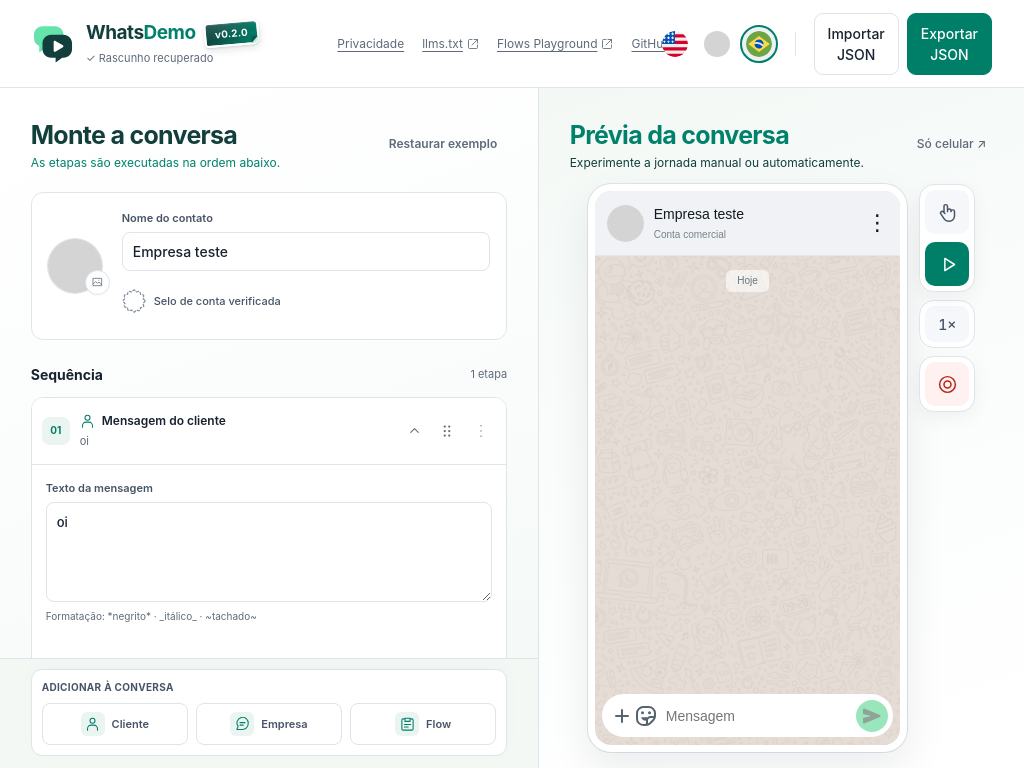
Scenario: formata mensagens digitadas pelo cliente
Click the button named "Iniciar manual" at (947, 212), box [925,190,969,234]
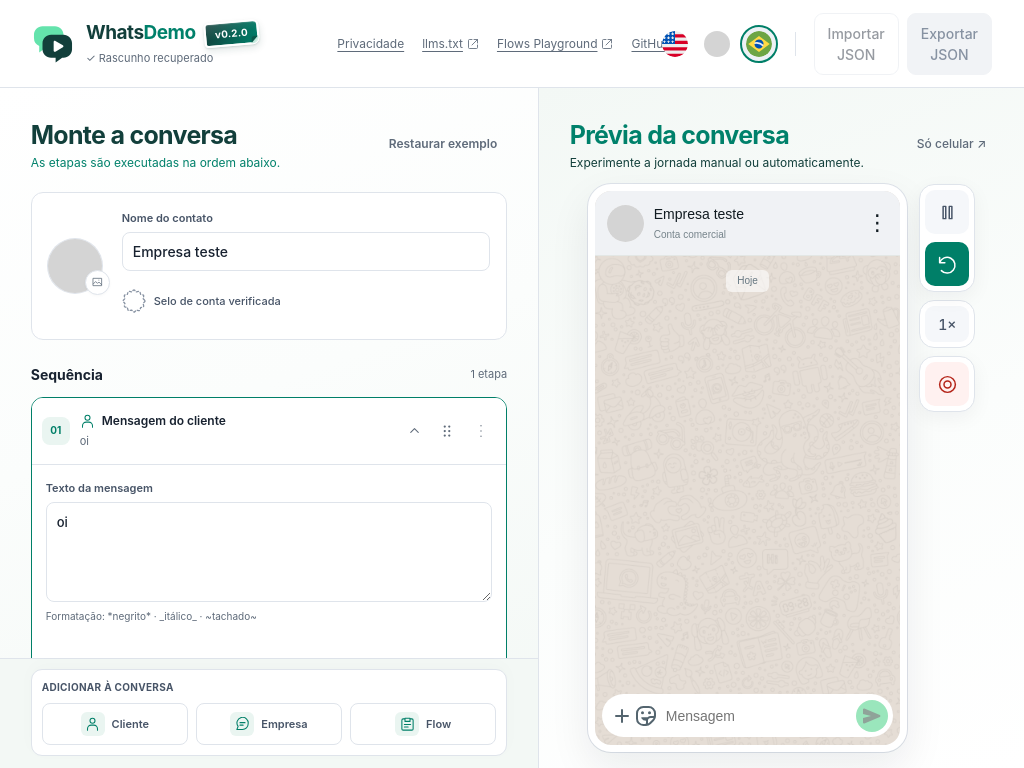
Type "Quero *agendar* uma _consulta_." into the field labelled "Mensagem" at (757, 716), box [666,702,848,728]
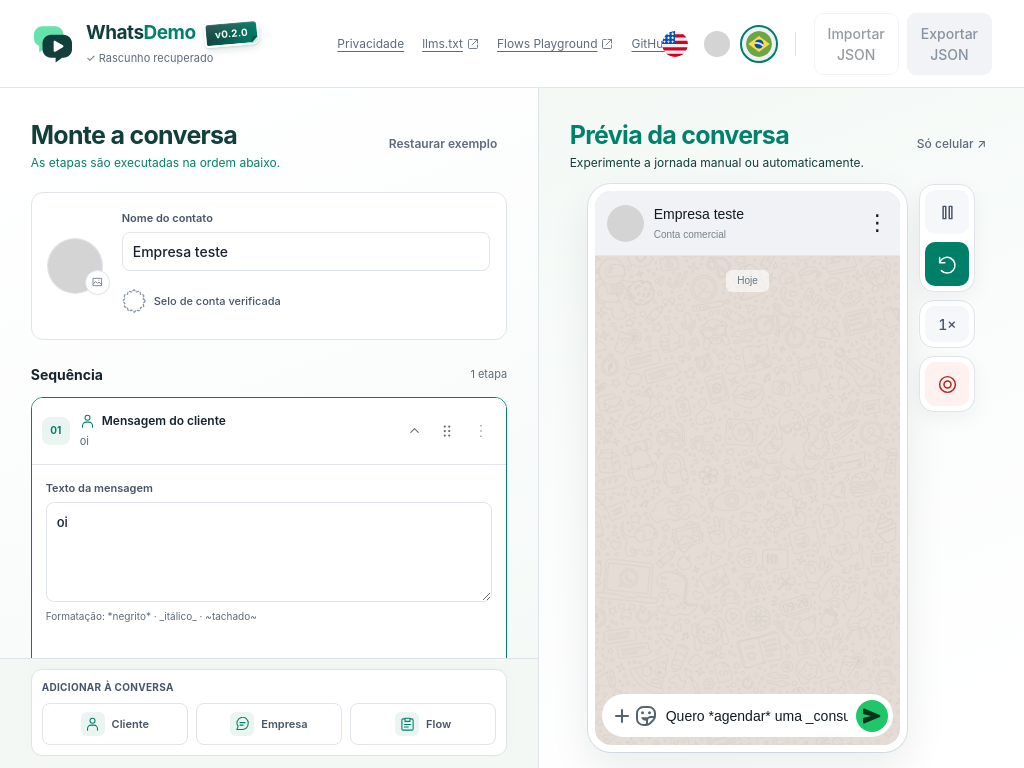
Click the button named "Enviar mensagem" at (872, 716), box [856,700,888,732]
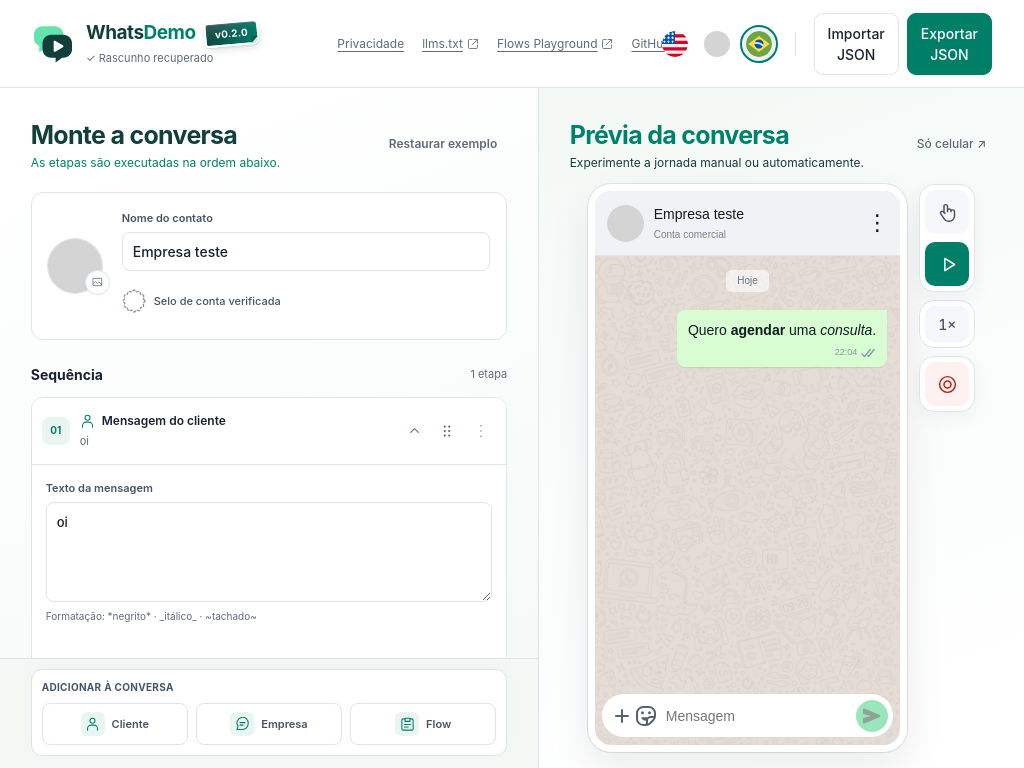
Now the text "agendar" is shown, box [731,322,785,338]
Now the text "consulta" is shown, box [820,322,872,338]
